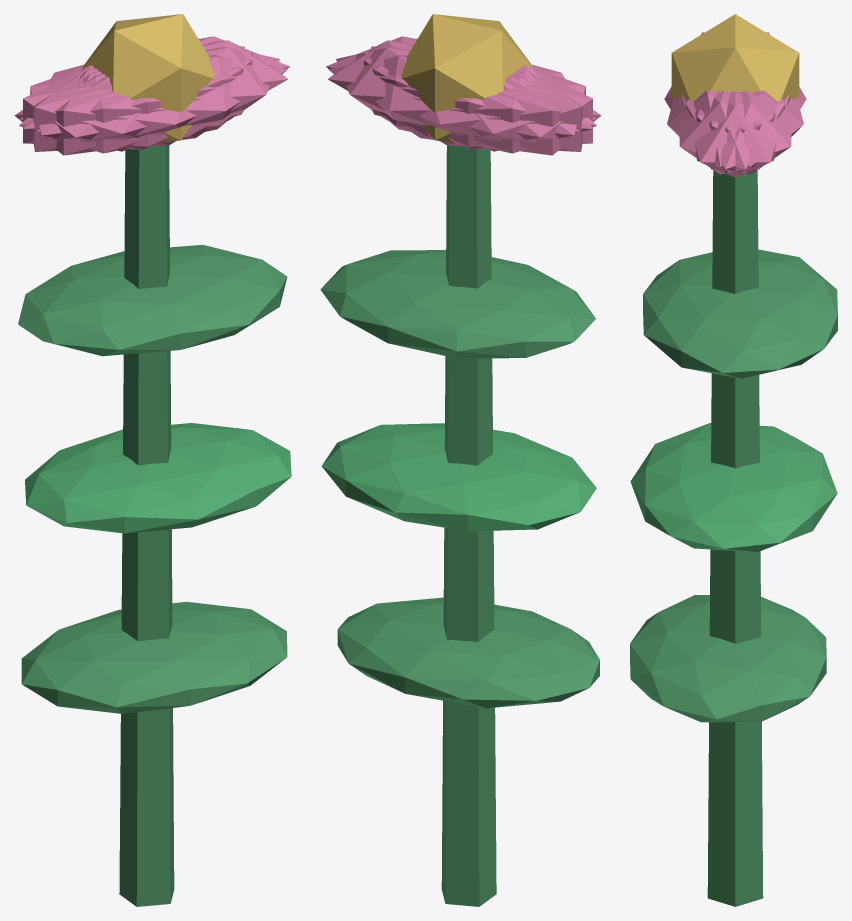
Rendered from pistia-stratiotes.glb.
3 renders of one model, left to right at view 1: azimuth 30°, elevation 25°; view 2: azimuth 150°, elevation 25°; view 3: azimuth 270°, elevation 25°, orthographic.
Parts seen in each view (by area): view 1: stem, leaf0, leaf1, leaf2, center, petal1, petal6, petal2, petal5, petal7, petal0, petal4 (+2 smaller); view 2: stem, leaf2, leaf1, leaf0, center, petal8, petal3, petal7, petal4, petal2, petal0, petal5 (+2 smaller); view 3: stem, leaf1, leaf2, leaf0, center, petal0, petal5, petal4, petal1, petal8.
Part boxes in pixels (x1,y1,x2,y2): stem: (119, 145, 174, 906); leaf0: (21, 601, 287, 713); leaf1: (25, 423, 291, 533); leaf2: (18, 244, 287, 356); center: (82, 14, 214, 142); petal1: (19, 55, 287, 153); petal6: (14, 67, 208, 155); petal2: (33, 46, 244, 151); petal5: (37, 47, 279, 146); petal7: (23, 52, 252, 149); petal0: (82, 40, 287, 137); petal4: (20, 36, 289, 129); stem: (441, 145, 496, 906); leaf2: (320, 250, 595, 358); leaf1: (321, 423, 596, 531); leaf0: (337, 597, 599, 708); center: (401, 14, 533, 142); petal8: (328, 55, 596, 153); petal3: (407, 67, 601, 155); petal7: (371, 46, 582, 151); petal4: (336, 47, 578, 146); petal2: (363, 52, 592, 149); petal0: (328, 40, 533, 137); petal5: (326, 36, 595, 129); stem: (707, 170, 763, 906); leaf1: (630, 423, 837, 551); leaf2: (643, 249, 837, 378); leaf0: (630, 595, 826, 722); center: (671, 14, 799, 100); petal0: (680, 91, 789, 177); petal5: (679, 91, 785, 174); petal4: (685, 91, 791, 174); petal1: (667, 90, 775, 166); petal8: (695, 90, 803, 166).
Size of the model in its own units: 0.1452 by 0.4579 by 0.0999.
